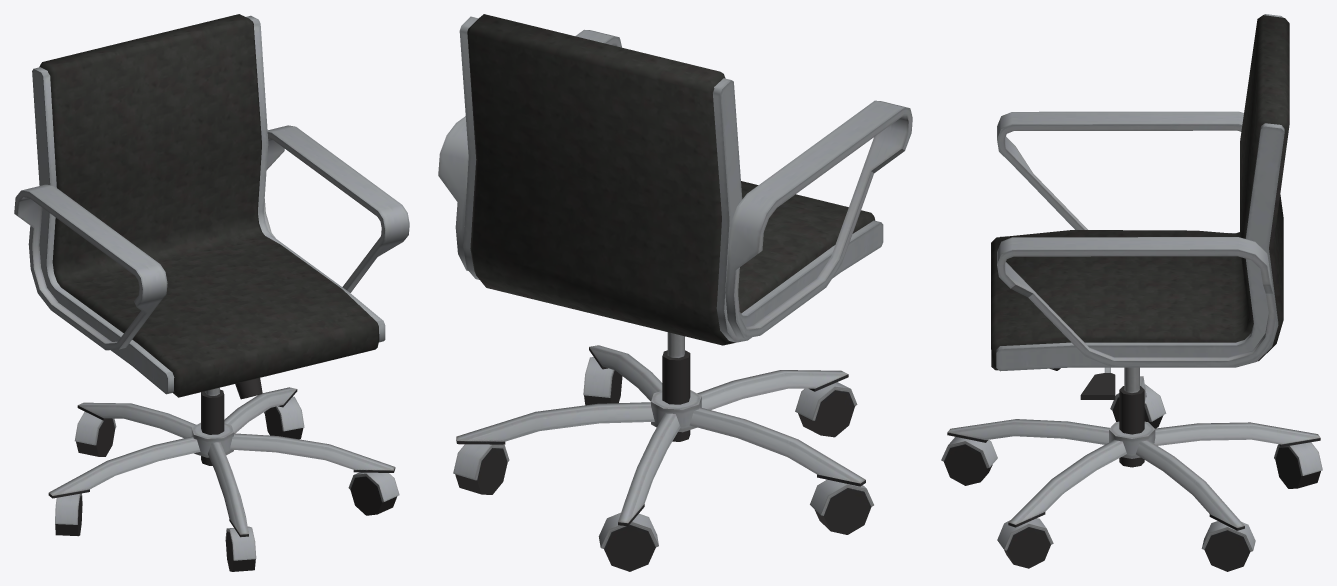
File: office_chair_modern_thethieme.glb
3 views of the same model, side by side, from view 1: azimuth 30°, elevation 25°; view 2: azimuth 150°, elevation 25°; view 3: azimuth 270°, elevation 25° (orthographic). The views are drawn at different scales.
Parts seen in each view (by area): view 1: OfficeChair_Modern_OfficeChair_Modern_0; view 2: OfficeChair_Modern_OfficeChair_Modern_0; view 3: OfficeChair_Modern_OfficeChair_Modern_0.
Boxes of the visible parts, x1,y1,x2,y2 form: OfficeChair_Modern_OfficeChair_Modern_0: [14, 14, 409, 571]; OfficeChair_Modern_OfficeChair_Modern_0: [438, 14, 912, 571]; OfficeChair_Modern_OfficeChair_Modern_0: [941, 14, 1322, 571].
Size of the model in its own units: 0.7204 by 0.9662 by 0.7598.
1 material, 1 textured.
